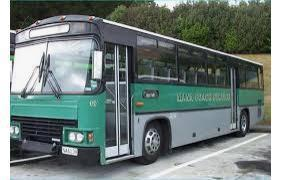bus: (6, 14, 260, 166)
